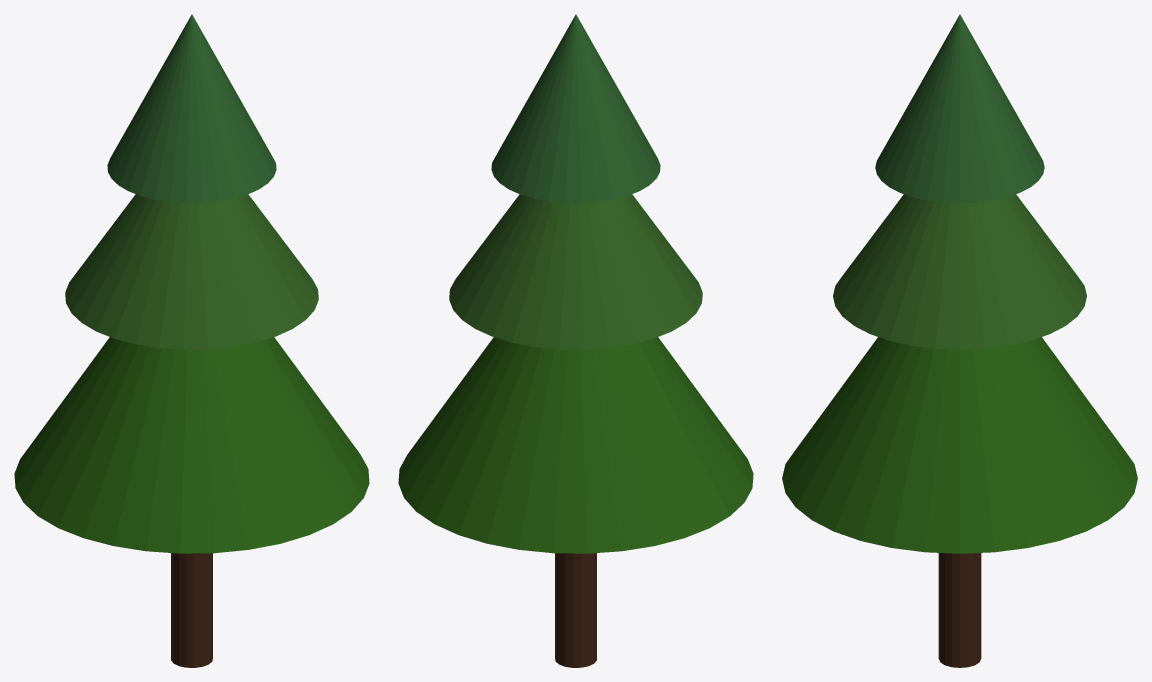
Rendered from Pine tree.fbx.
3 views of the same model, side by side, from view 1: azimuth 30°, elevation 25°; view 2: azimuth 150°, elevation 25°; view 3: azimuth 270°, elevation 25° (orthographic).
Visible parts, largest first — view 1: Cone.002, Cone, Cone.001, Cylinder; view 2: Cone.002, Cone, Cone.001, Cylinder; view 3: Cone.002, Cone, Cone.001, Cylinder.
Part boxes in pixels (box(x1,y1,x2,y2)): Cone.002: box(14, 337, 369, 553); Cone: box(65, 194, 318, 349); Cone.001: box(107, 14, 276, 203); Cylinder: box(171, 553, 212, 667); Cone.002: box(398, 337, 753, 553); Cone: box(449, 194, 702, 349); Cone.001: box(491, 14, 660, 203); Cylinder: box(555, 553, 596, 667); Cone.002: box(782, 337, 1137, 553); Cone: box(833, 194, 1086, 349); Cone.001: box(875, 14, 1044, 203); Cylinder: box(938, 553, 981, 667).
Size of the model in its own units: 840 by 1680 by 840.
